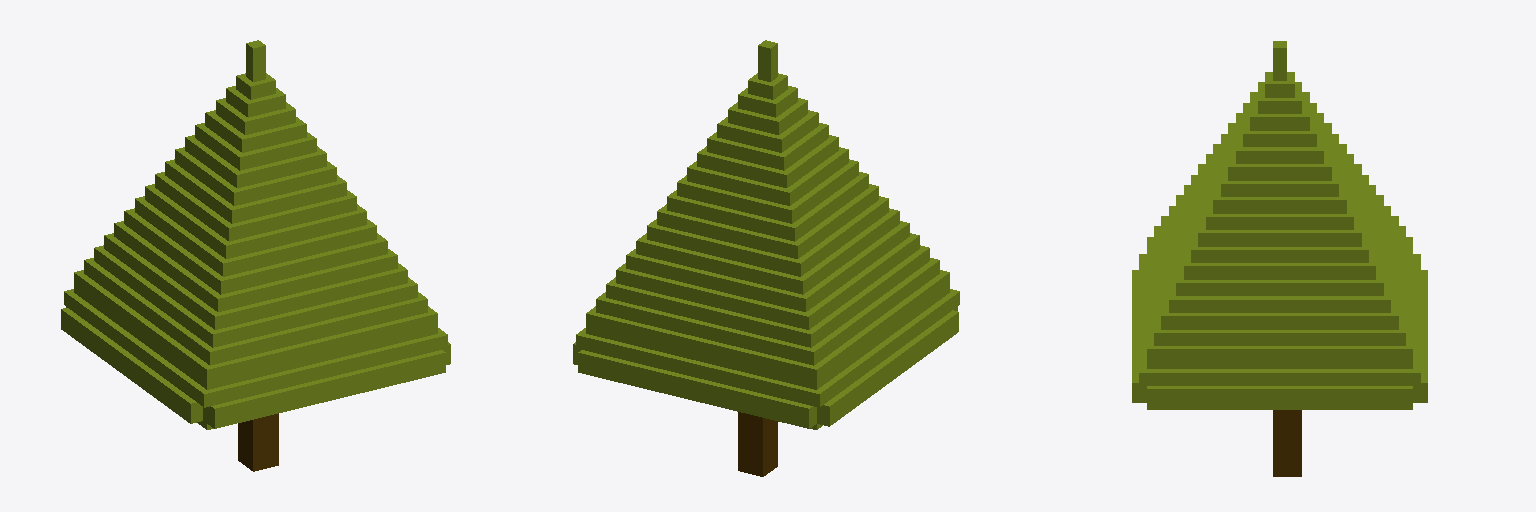
3 renders of one model, left to right at view 1: azimuth 30°, elevation 25°; view 2: azimuth 150°, elevation 25°; view 3: azimuth 270°, elevation 25°, orthographic.
Visible parts, largest first — view 1: object 1; view 2: object 1; view 3: object 1.
Boxes of the visible parts, x1,y1,x2,y2 form: object 1: [61, 40, 450, 471]; object 1: [573, 40, 959, 476]; object 1: [1132, 41, 1427, 476].
Bounding box in the file's own units: 4 × 6.3 × 4.
1 materials, 1 textured.